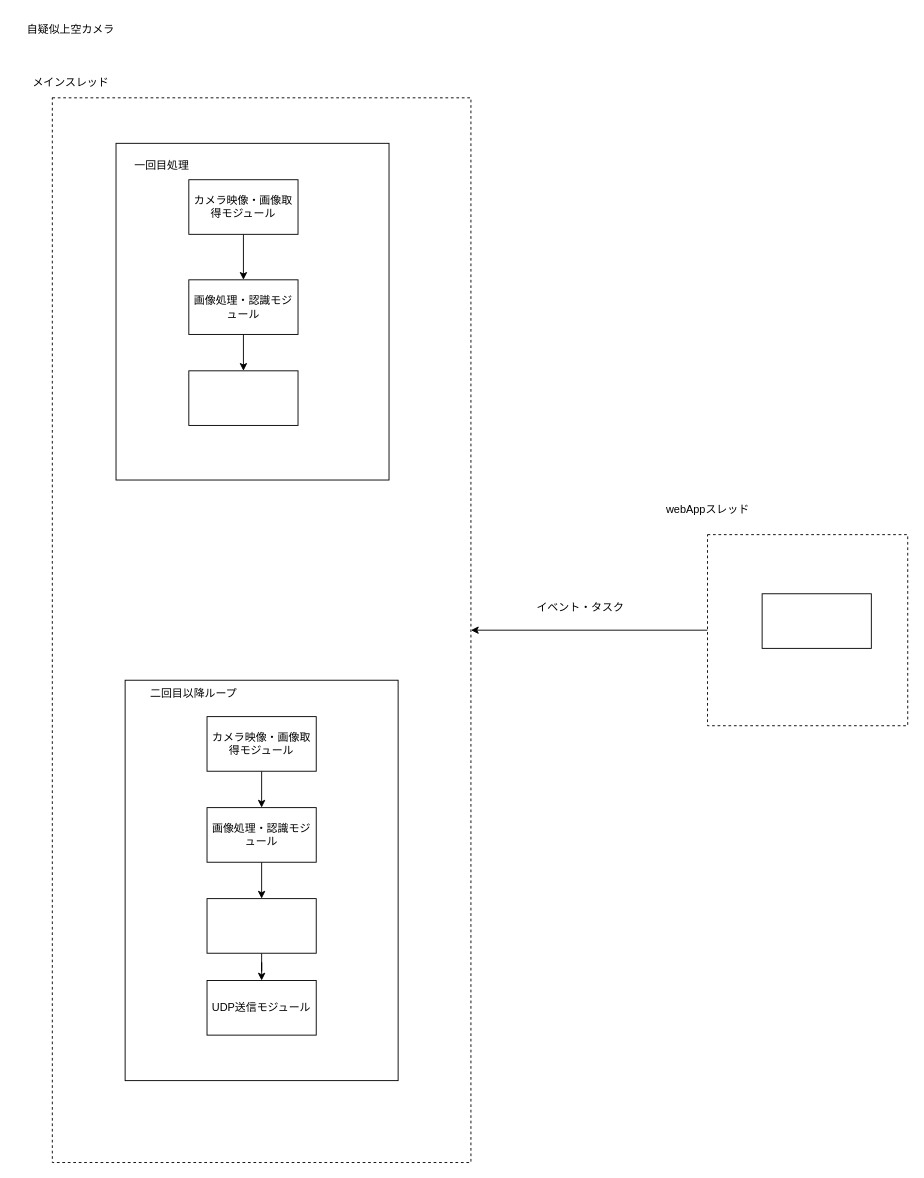
This 924x1178 diagram has some shape labels left out. The shapes that lost their labels are listed below. From the top down, each one's centre as x and y in pixels, then its label:
At point 243,397: "経路計算モジュール".
At point 816,620: "webAppモジュール".
At point 261,925: "経路指示モジュール".
